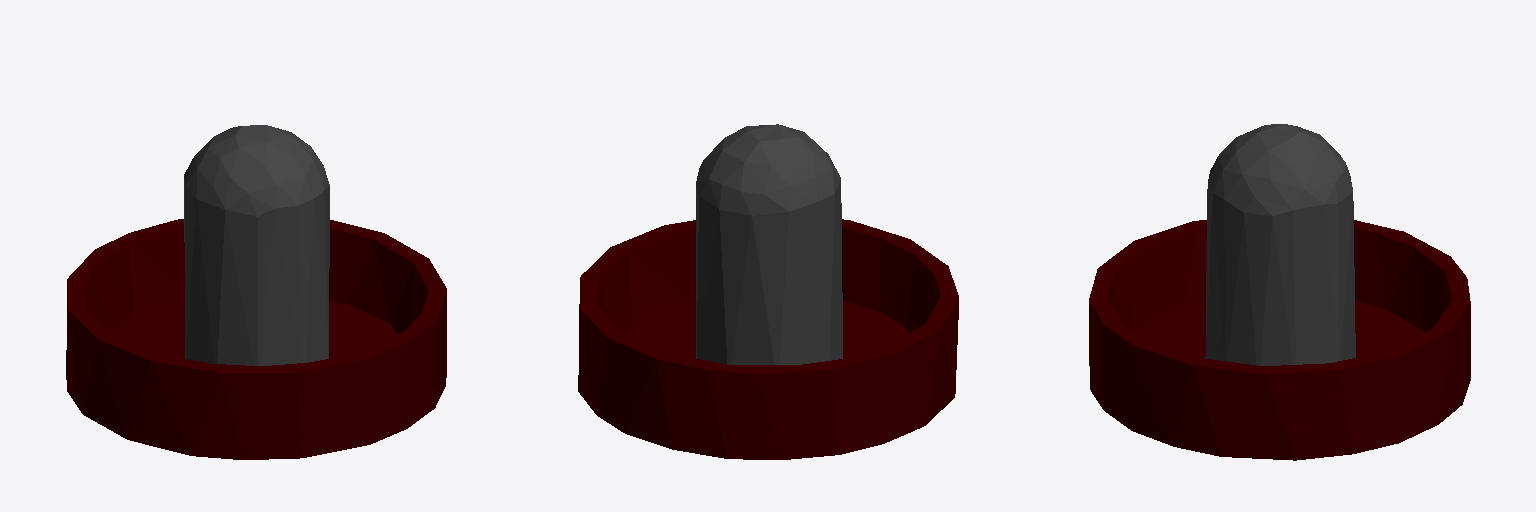
The model's file is Paddle250r.obj.
The picture shows the model from 3 angles: view 1: azimuth 30°, elevation 25°; view 2: azimuth 150°, elevation 25°; view 3: azimuth 270°, elevation 25°; orthographic projection.
Parts seen in each view (by area): view 1: Mesh_Cylinder; view 2: Mesh_Cylinder; view 3: Mesh_Cylinder.
Boxes of the visible parts, box(x1,y1,x2,y2) form: Mesh_Cylinder: box(66, 125, 446, 459); Mesh_Cylinder: box(578, 124, 958, 459); Mesh_Cylinder: box(1089, 124, 1470, 460).
Size of the model in its own units: 2 by 1.43 by 2.